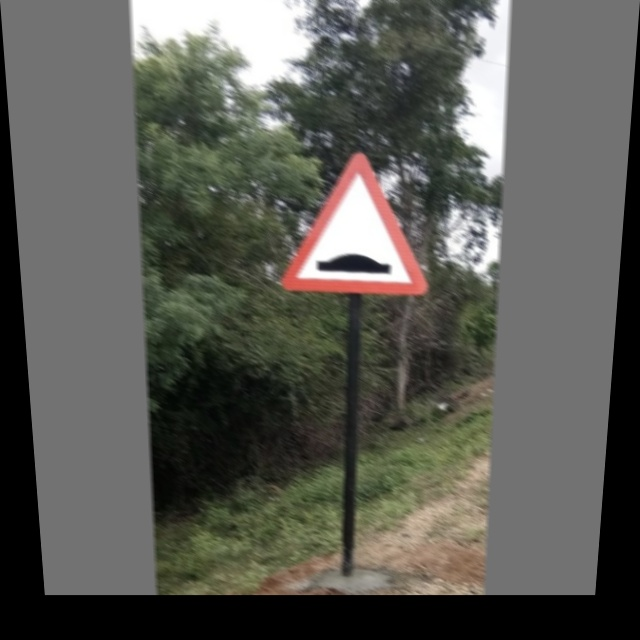Dangerous_Dip: (285, 151, 432, 300)
